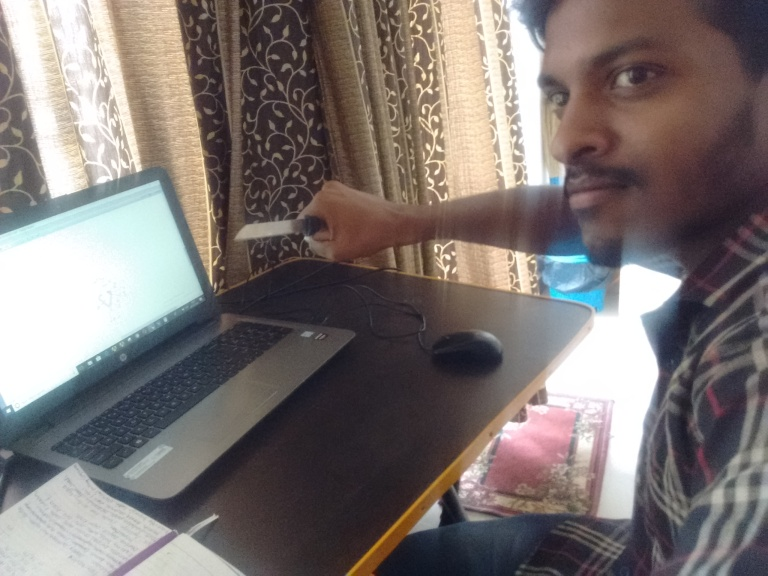knife: (231, 214, 326, 241)
